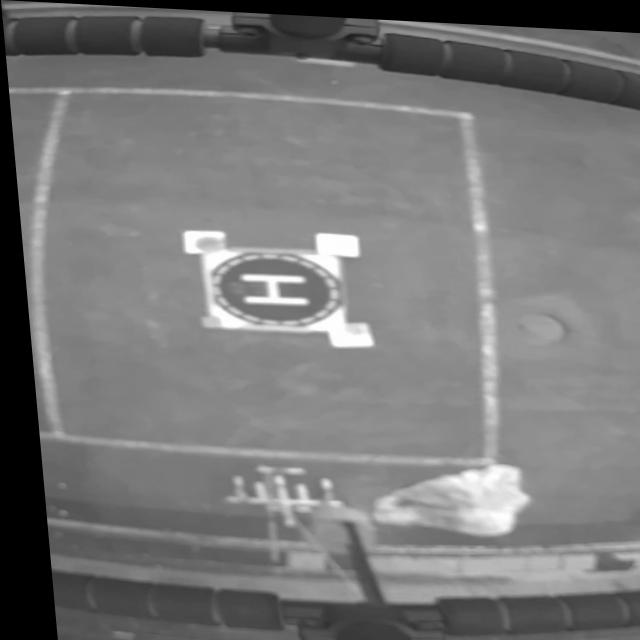Helipad: (233, 272, 302, 303)
